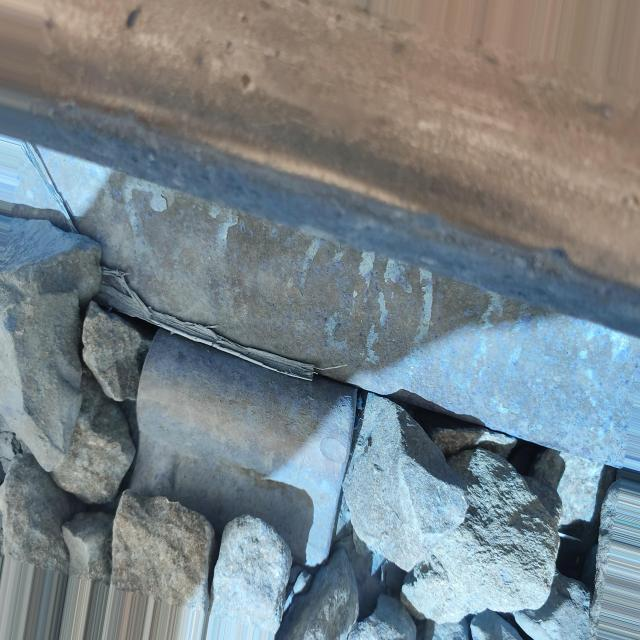Missing Fastener: (103, 310, 401, 604)
